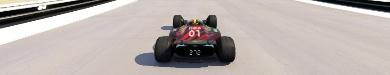Car: (153, 14, 235, 63)
